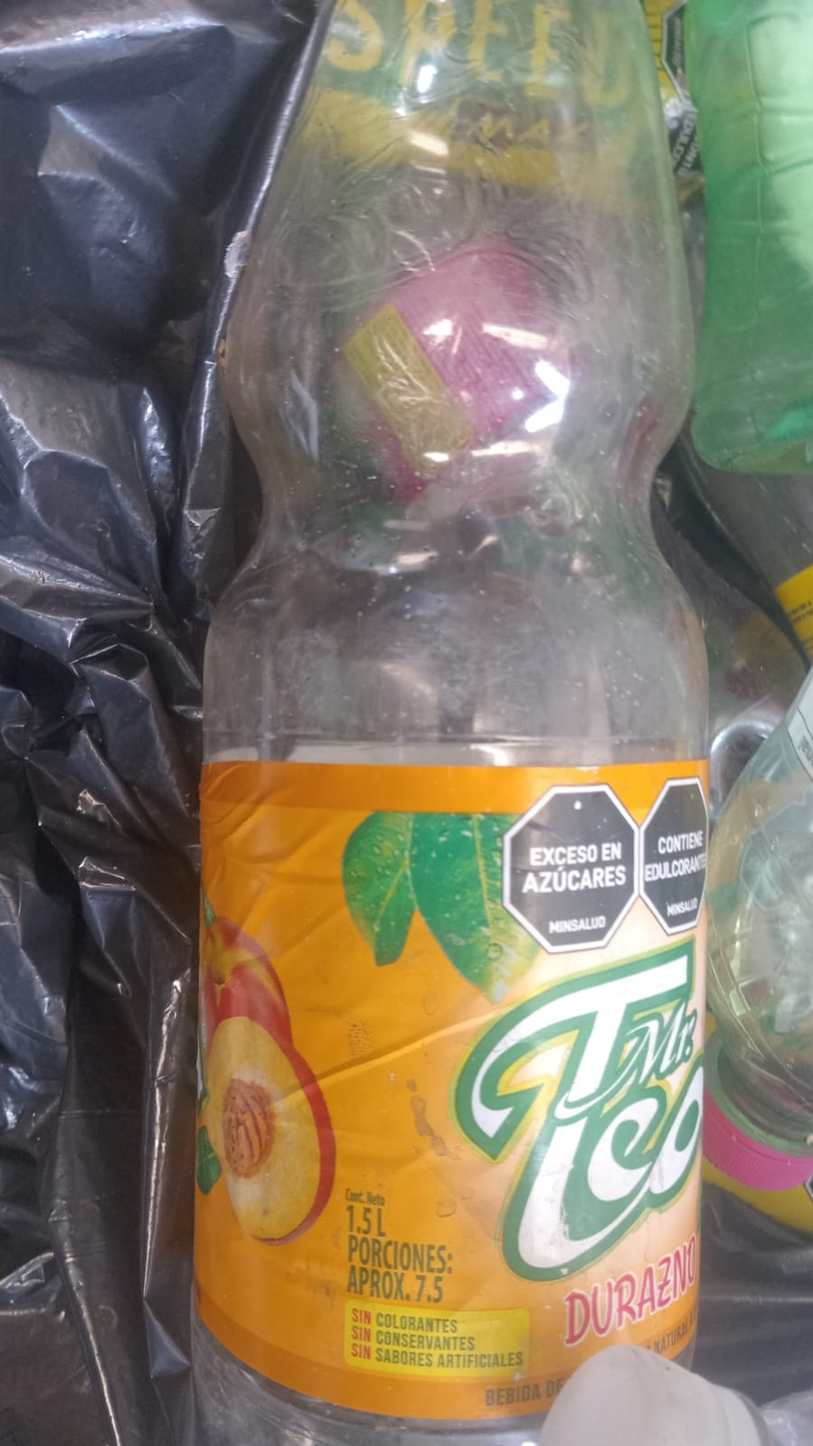Plastico: (194, 0, 716, 1446)
